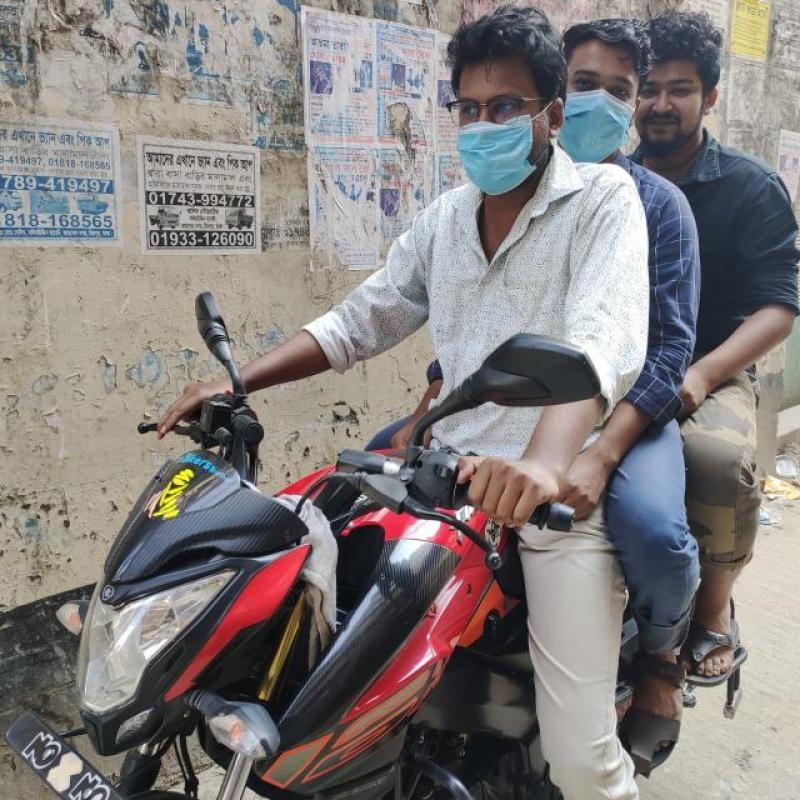nohelmet: (422, 21, 552, 225), (652, 3, 759, 158), (562, 0, 643, 170)
